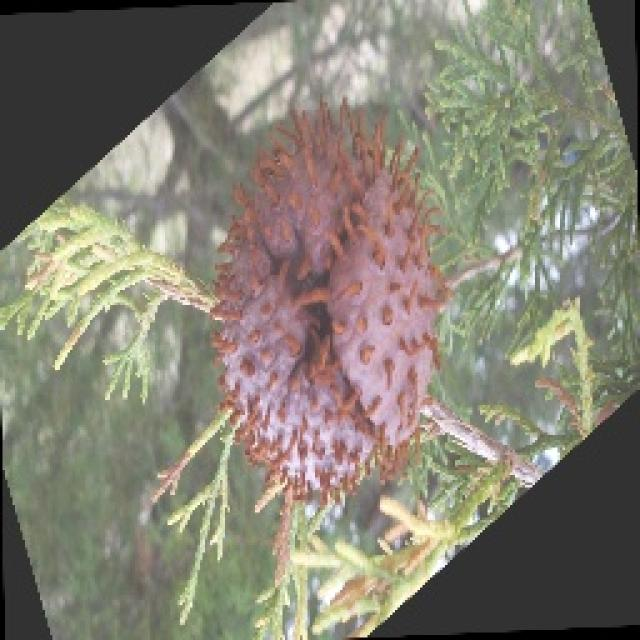Gymnosporangium_Rusts: (205, 95, 453, 510)
